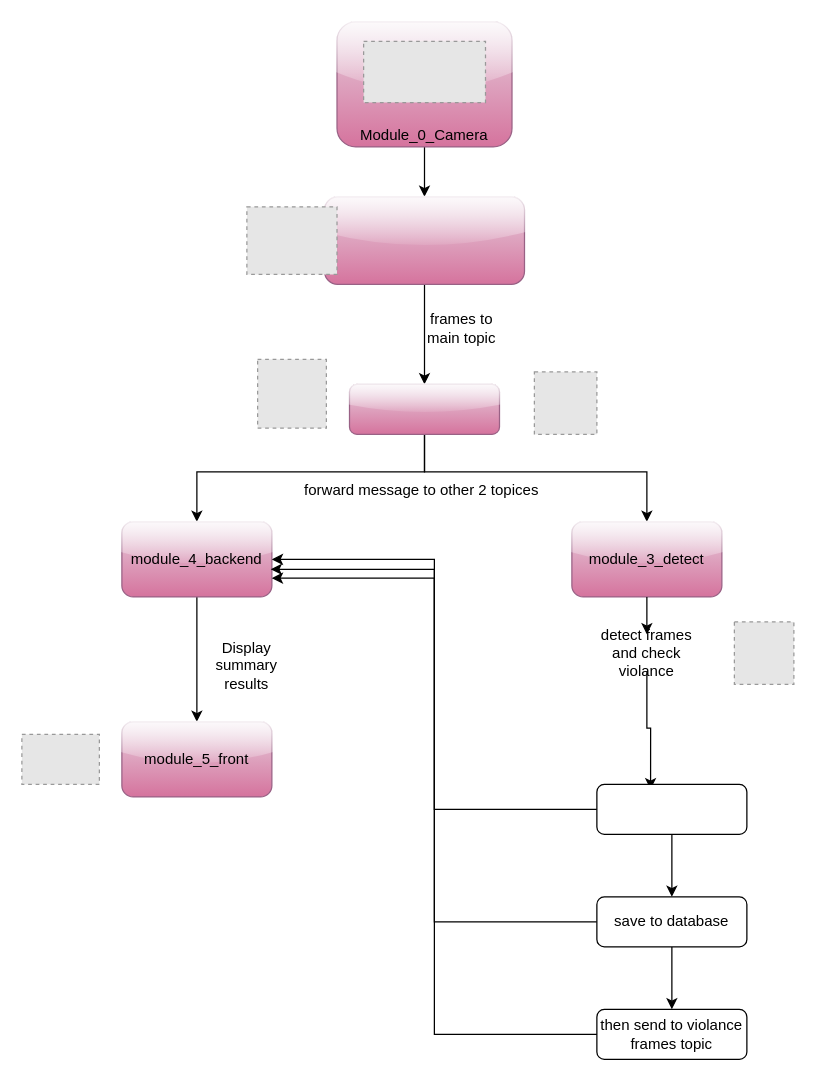
This 816x1081 diagram has some shape labels left out. Grey dashed boxes stand in for pictures. Here are the shapes that lost their labels. From the top down, the centre of each, then its label:
point 423,240: module_1_frame_reader
point 424,408: module_2_streamer
point 671,808: when detect save image to path
